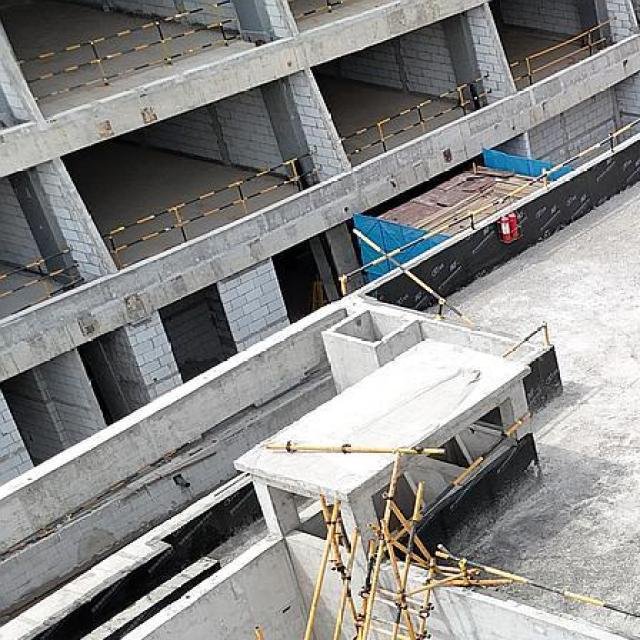edge_guardrail: (338, 118, 640, 298), (100, 140, 324, 269), (0, 0, 244, 103), (382, 409, 535, 544), (433, 548, 640, 619), (338, 72, 499, 157), (351, 227, 476, 327), (506, 17, 615, 86), (0, 247, 86, 322), (496, 321, 551, 359), (290, 0, 344, 23)
